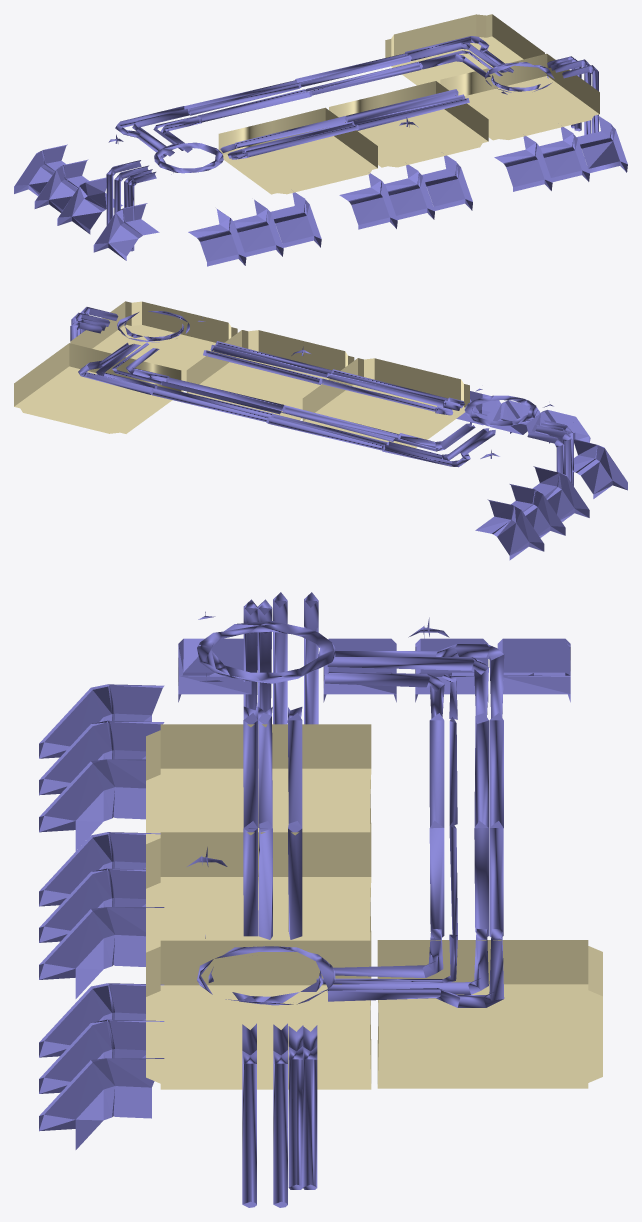
Rendered from backdrop_top_a_lod1.glb.
3 renders of one model, top to bottom at view 1: azimuth 30°, elevation 25°; view 2: azimuth 150°, elevation 25°; view 3: azimuth 270°, elevation 25°, orthographic. The views are drawn at different scales.
Size of the model in its own units: 267 by 43.04 by 129.
